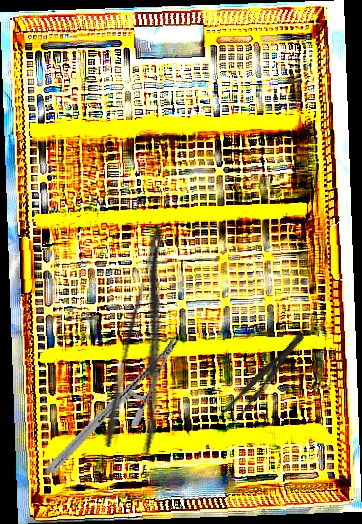Dressing Forceps: (99, 226, 201, 457), (212, 326, 311, 435)
Needle Holder: (46, 316, 179, 496)
